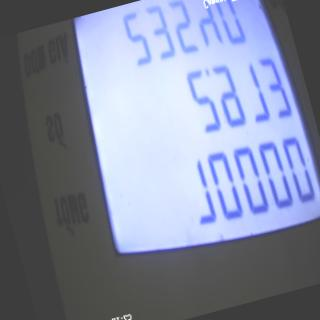screen: (48, 0, 320, 291)
